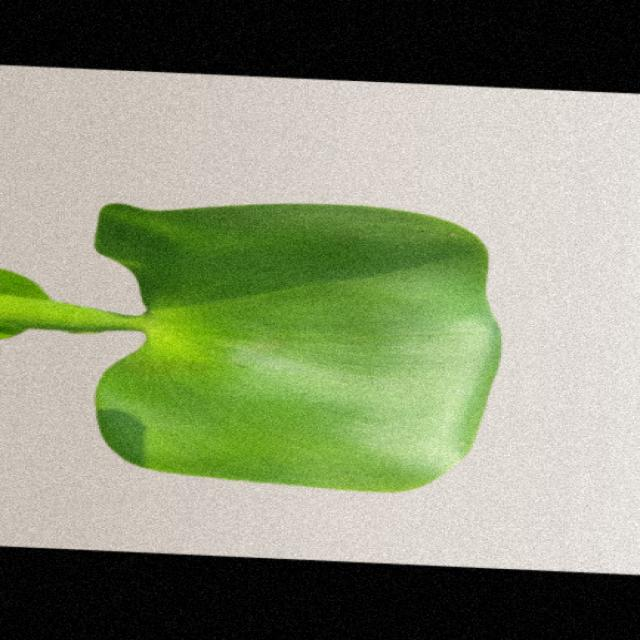daun sehat: (0, 204, 500, 491)
